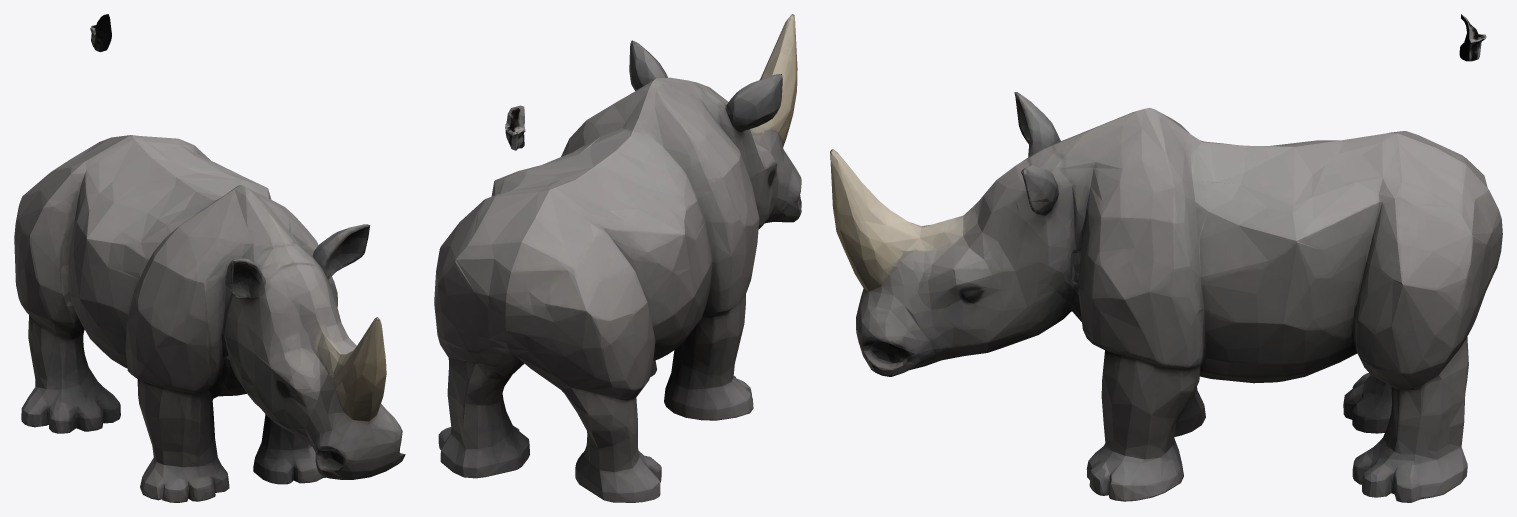
The model's file is rhino.glb.
3 renders of one model, left to right at view 1: azimuth 30°, elevation 25°; view 2: azimuth 150°, elevation 25°; view 3: azimuth 270°, elevation 25°, orthographic. The views are drawn at different scales.
Parts seen in each view (by area): view 1: world; view 2: world; view 3: world.
Boxes of the visible parts, bbox=[...] form: world: bbox=[14, 14, 405, 502]; world: bbox=[434, 14, 801, 502]; world: bbox=[830, 14, 1502, 502].
Bounding box in the file's own units: 0.4192 × 0.7065 × 0.9964.
Materials: 1 (1 with a texture image).
